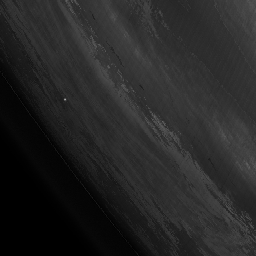Target: (62, 97, 68, 102)
